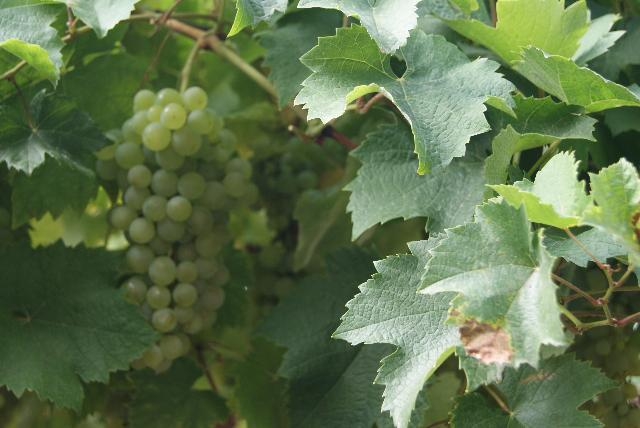grapes: (96, 86, 258, 372)
